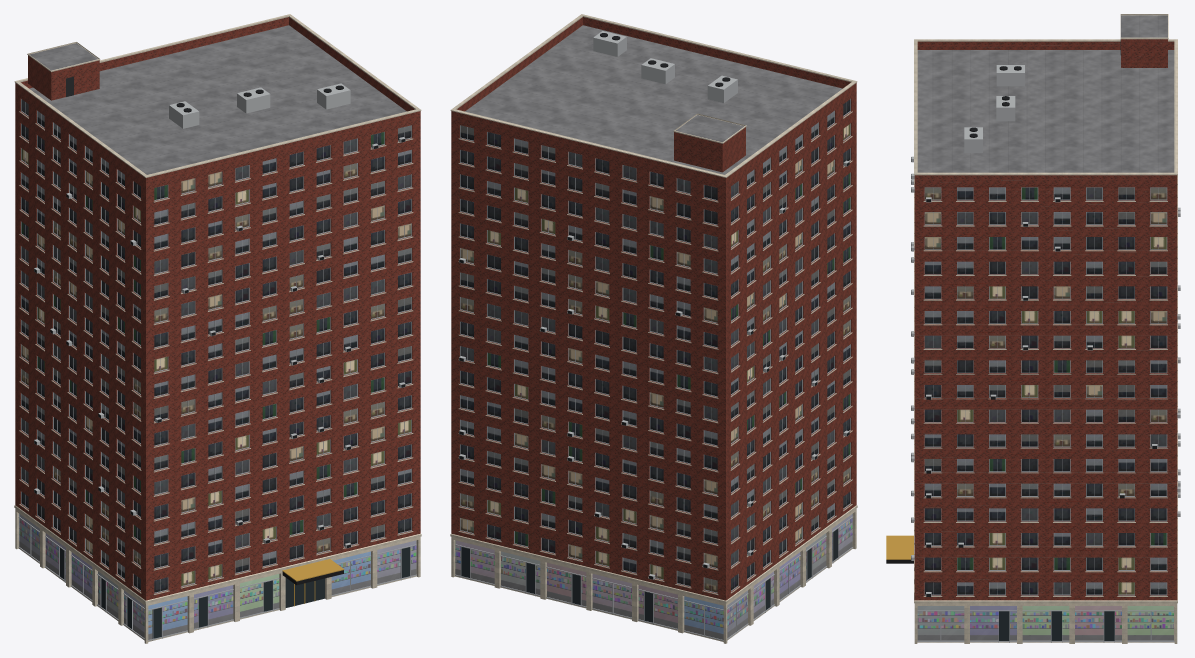
The model's file is hd15_fifties_corner_window_coop.gltf.
The picture shows the model from 3 angles, left to right: view 1: azimuth 30°, elevation 25°; view 2: azimuth 150°, elevation 25°; view 3: azimuth 270°, elevation 25°; orthographic projection.
Parts seen in each view (by area): view 1: hd15_fifties_corner_window_coop_LOD0; view 2: hd15_fifties_corner_window_coop_LOD0; view 3: hd15_fifties_corner_window_coop_LOD0.
Boxes of the visible parts, x1=… form: hd15_fifties_corner_window_coop_LOD0: x1=14, y1=14, x2=421, y2=643; hd15_fifties_corner_window_coop_LOD0: x1=450, y1=14, x2=857, y2=643; hd15_fifties_corner_window_coop_LOD0: x1=886, y1=14, x2=1180, y2=643.
Size of what is drawn, in the model's own units: 34.72 by 58.65 by 31.38.
12 materials, 5 textured.
